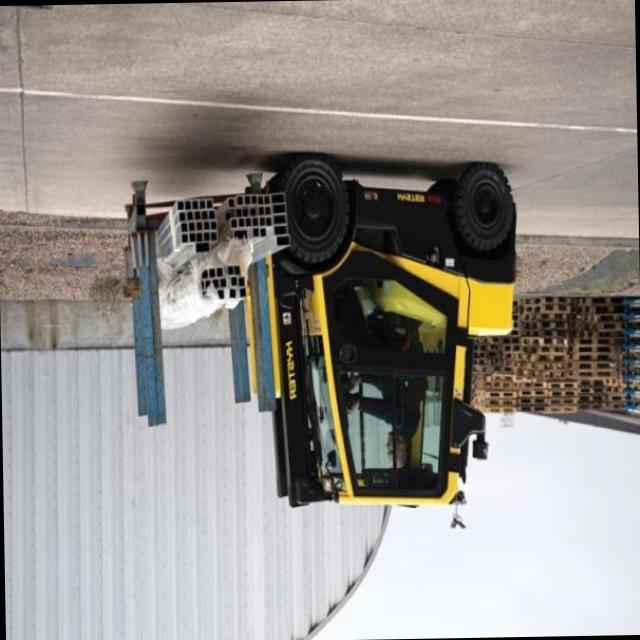driver: (352, 290, 428, 470)
forklift: (270, 138, 525, 528)
